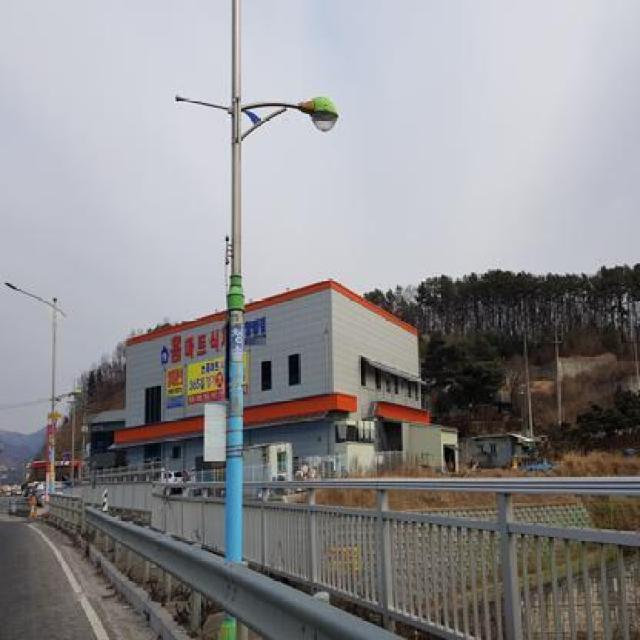fence: (376, 474, 628, 632), (266, 476, 380, 593)
pole: (210, 92, 252, 558)
